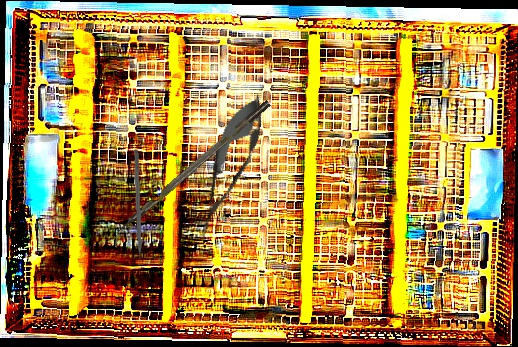Chopper: (105, 99, 278, 249), (127, 149, 143, 272)
Micro Scissor: (181, 86, 276, 249)
